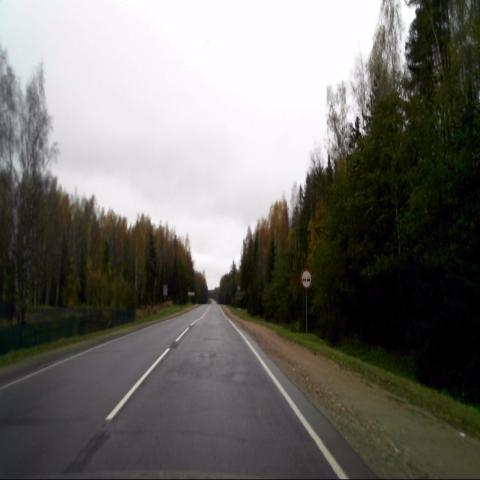3_20: (300, 267, 313, 289)
